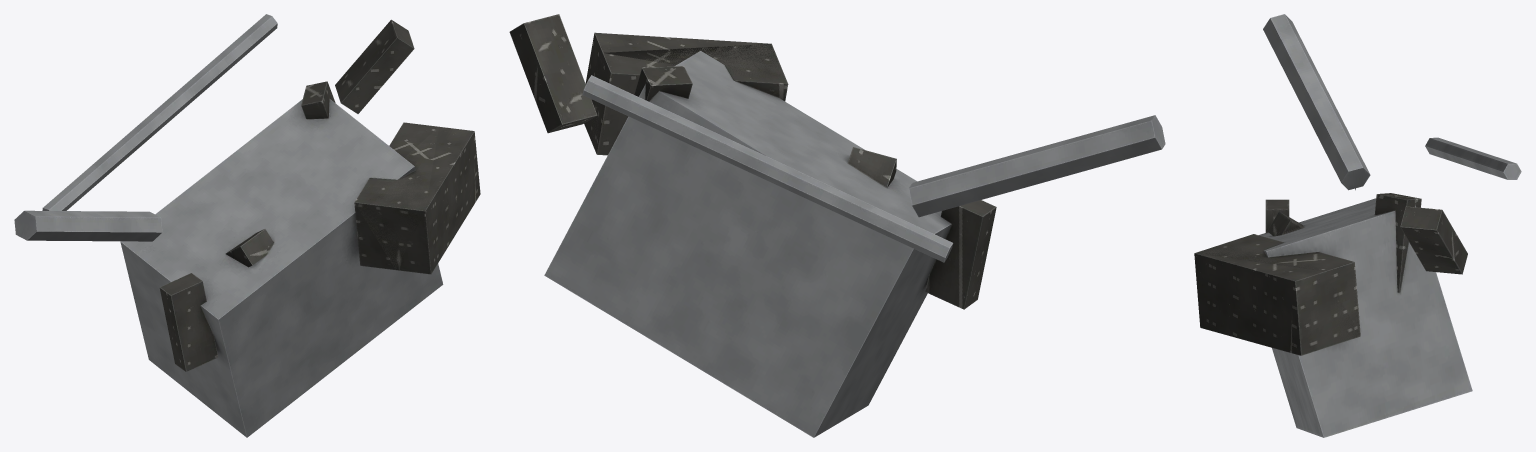
Rendered from sd_prop_debris3.glb.
3 renders of one model, left to right at view 1: azimuth 30°, elevation 25°; view 2: azimuth 150°, elevation 25°; view 3: azimuth 270°, elevation 25°, orthographic. The views are drawn at different scales.
Parts seen in each view (by area): view 1: LOD0_body, LOD1_body; view 2: LOD0_body, LOD1_body; view 3: LOD0_body, LOD1_body.
Boxes of the visible parts, x1=… form: LOD0_body: x1=14, y1=14, x2=480, y2=437; LOD1_body: x1=355, y1=127, x2=438, y2=269; LOD0_body: x1=509, y1=14, x2=1165, y2=437; LOD1_body: x1=584, y1=44, x2=786, y2=152; LOD0_body: x1=1194, y1=14, x2=1521, y2=437; LOD1_body: x1=1195, y1=188, x2=1359, y2=354.
Bounding box in the file's own units: 1 × 0.6396 × 0.5775.
Materials: 1 (1 with a texture image).
